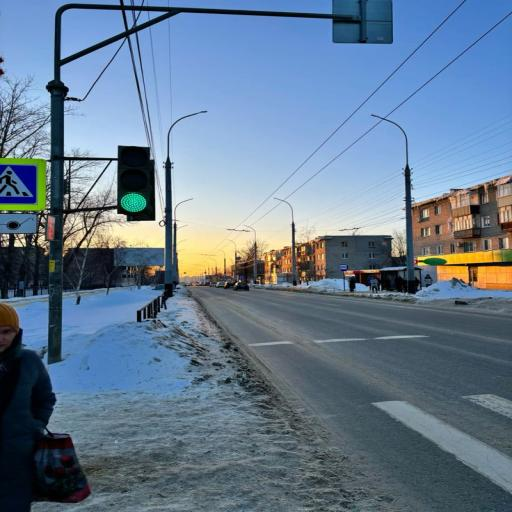closet: (252, 338, 512, 512)
laptop: (0, 278, 89, 512)
ramp: (184, 276, 511, 511)
table: (42, 60, 167, 370)
